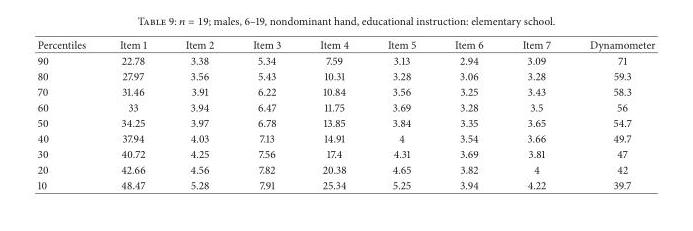table: (36, 36, 654, 192)
table column: (569, 36, 654, 192), (299, 36, 367, 192), (434, 36, 502, 192), (165, 36, 232, 192), (232, 36, 299, 192), (367, 36, 434, 192), (502, 36, 569, 192), (36, 36, 102, 192), (102, 36, 165, 192)
table column header: (36, 36, 654, 52)
table row: (36, 36, 654, 52), (36, 67, 654, 83), (36, 83, 654, 99), (36, 114, 654, 130), (36, 145, 654, 161), (36, 176, 654, 192), (36, 52, 654, 67), (36, 99, 654, 114), (36, 130, 654, 145), (36, 161, 654, 176)
